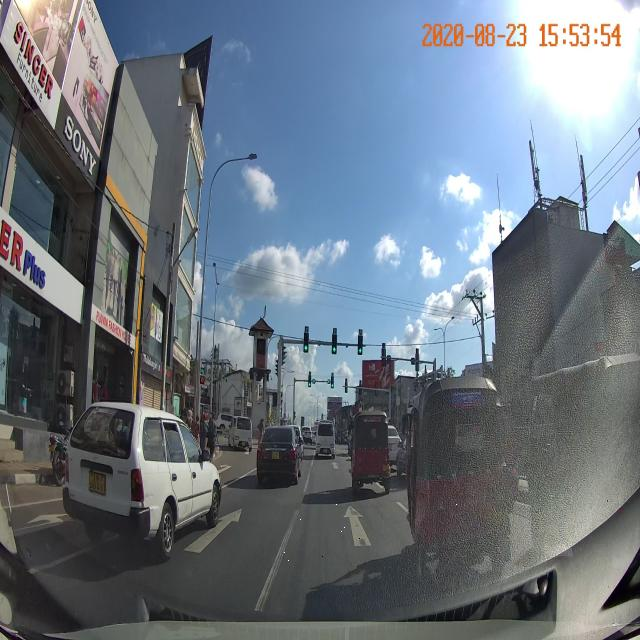forward: (275, 495, 457, 562)
